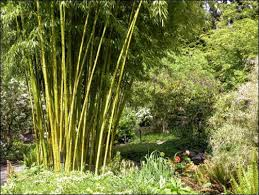bamboo: (6, 3, 121, 168), (1, 2, 200, 90)
